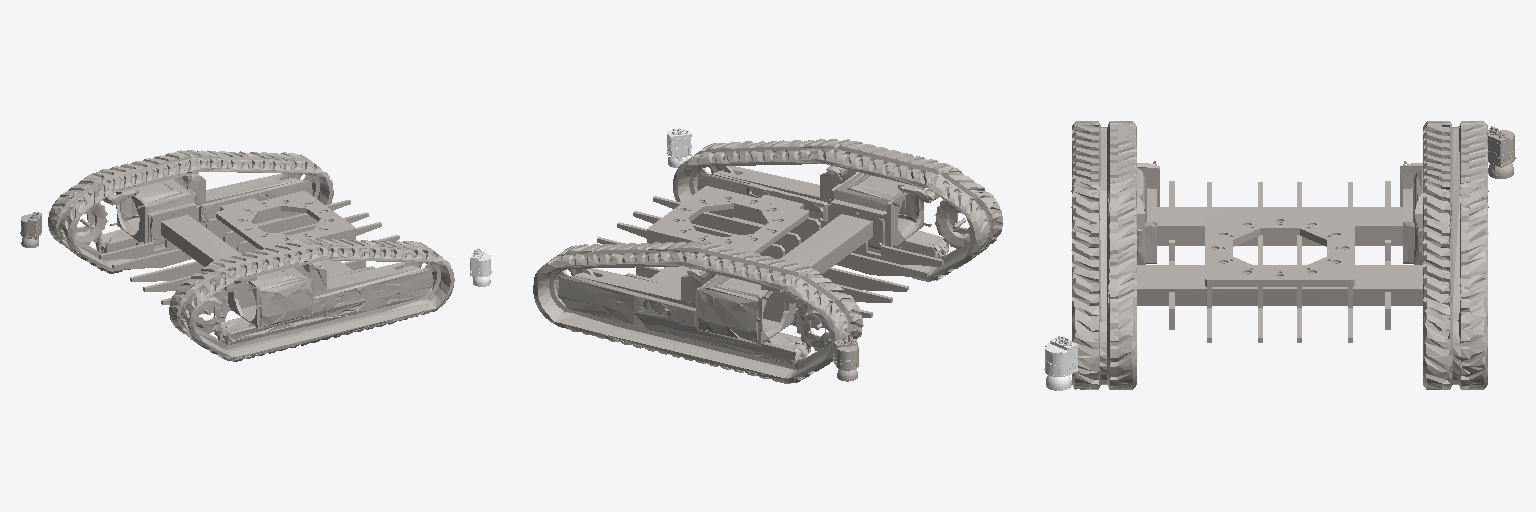
The robot description file, URDF, robot "tracked_constructa":
<?xml version="1.0" ?>
<!-- =================================================================================== -->
<!-- |    This document was autogenerated by xacro from tracked_constructa.urdf.xacro  | -->
<!-- |    EDITING THIS FILE BY HAND IS NOT RECOMMENDED                                 | -->
<!-- =================================================================================== -->
<robot name="tracked_constructa">
  <link name="tracked_constructa_base_link">
    <inertial>
      <origin rpy="0 0 0" xyz="-0.0032553 0.00058223 0.2389"/>
      <mass value="827.12"/>
      <inertia ixx="30.917" ixy="-0.023393" ixz="9.441" iyy="208.62" iyz="-0.0088913" izz="192.94"/>
    </inertial>
    <visual>
      <origin rpy="0 0 0" xyz="0 0 0"/>
      <geometry>
        <mesh filename="package://tracked_constructa/meshes/base_link.STL"/>
      </geometry>
      <material name="">
        <color rgba="0.77647 0.75686 0.73725 1"/>
      </material>
    </visual>
    <collision>
      <origin rpy="0 0 0" xyz="0 0 0"/>
      <geometry>
        <mesh filename="package://tracked_constructa/meshes/base_link.STL"/>
      </geometry>
    </collision>
  </link>
  <link name="tracked_constructa_wheel_right">
    <inertial>
      <origin rpy="0 0 0" xyz="2.4228E-05 -5.2484E-06 -0.05"/>
      <mass value="0.2419"/>
      <inertia ixx="0.00020763" ixy="3.052E-23" ixz="1.4093E-18" iyy="0.00020763" iyz="-1.2101E-18" izz="1.2095E-05"/>
    </inertial>
    <visual>
      <origin rpy="0 0 0" xyz="0 0 0"/>
      <geometry>
        <mesh filename="package://tracked_constructa/meshes/wheel_right.STL"/>
      </geometry>
      <material name="">
        <color rgba="0.77647 0.75686 0.73725 1"/>
      </material>
    </visual>
    <collision>
      <origin rpy="0 0 0" xyz="0 0 0"/>
      <geometry>
        <mesh filename="package://tracked_constructa/meshes/wheel_right.STL"/>
      </geometry>
    </collision>
  </link>
  <joint name="tracked_constructa_wheel_right" type="revolute">
    <origin rpy="1.5708 0 0" xyz="-0.68249 -0.71198 0.29748"/>
    <parent link="tracked_constructa_base_link"/>
    <child link="tracked_constructa_wheel_right"/>
    <axis xyz="0 0 1"/>
    <limit effort="0" lower="-1E-16" upper="1E+16" velocity="0"/>
  </joint>
  <link name="tracked_constructa_wheel_left">
    <inertial>
      <origin rpy="0 0 0" xyz="2.4199E-05 1.2367E-05 0.05"/>
      <mass value="0.2419"/>
      <inertia ixx="0.00020763" ixy="2.6987E-53" ixz="-5.1095E-36" iyy="0.00020763" iyz="-2.3373E-37" izz="1.2095E-05"/>
    </inertial>
    <visual>
      <origin rpy="0 0 0" xyz="0 0 0"/>
      <geometry>
        <mesh filename="package://tracked_constructa/meshes/wheel_left.STL"/>
      </geometry>
      <material name="">
        <color rgba="0.77647 0.75686 0.73725 1"/>
      </material>
    </visual>
    <collision>
      <origin rpy="0 0 0" xyz="0 0 0"/>
      <geometry>
        <mesh filename="package://tracked_constructa/meshes/wheel_left.STL"/>
      </geometry>
    </collision>
  </link>
  <joint name="tracked_constructa_wheel_left" type="revolute">
    <origin rpy="1.5708 0 0" xyz="-0.68249 0.71198 0.29746"/>
    <parent link="tracked_constructa_base_link"/>
    <child link="tracked_constructa_wheel_left"/>
    <axis xyz="0 0 -1"/>
    <limit effort="0" lower="-1E-16" upper="1E+16" velocity="0"/>
  </joint>
  <link name="tracked_constructa_robot_base_link">
    <inertial>
      <origin rpy="0 0 0" xyz="5.5511E-17 1.2072E-16 -0.01498"/>
      <mass value="50.758"/>
      <inertia ixx="1.9089" ixy="1.6591E-16" ixz="-1.2712E-19" iyy="1.9089" iyz="-6.6393E-15" izz="3.8104"/>
    </inertial>
    <visual>
      <origin rpy="0 0 0" xyz="0 0 0"/>
      <geometry>
        <mesh filename="package://tracked_constructa/meshes/robot_base_link.STL"/>
      </geometry>
      <material name="">
        <color rgba="0.77647 0.75686 0.73725 1"/>
      </material>
    </visual>
    <collision>
      <origin rpy="0 0 0" xyz="0 0 0"/>
      <geometry>
        <mesh filename="package://tracked_constructa/meshes/robot_base_link.STL"/>
      </geometry>
    </collision>
  </link>
  <joint name="tracked_constructa_robot_base_link" type="fixed">
    <origin rpy="0 0 0" xyz="0.2215 0 0.37377"/>
    <parent link="tracked_constructa_base_link"/>
    <child link="tracked_constructa_robot_base_link"/>
    <axis xyz="0 0 0"/>
  </joint>
  <link name="tracked_constructa_lidar_1">
    <inertial>
      <origin rpy="0 0 0" xyz="0.79861 2.8555E-08 -0.014039"/>
      <mass value="5816.8"/>
      <inertia ixx="28155" ixy="-9.4051E-06" ixz="254.35" iyy="14577" iyz="7.565E-06" izz="42723"/>
    </inertial>
    <visual>
      <origin rpy="0 0 0" xyz="0 0 0"/>
      <geometry>
        <mesh filename="package://tracked_constructa/meshes/lidar_1.STL"/>
      </geometry>
      <material name="">
        <color rgba="0.77647 0.75686 0.73725 1"/>
      </material>
    </visual>
    <collision>
      <origin rpy="0 0 0" xyz="0 0 0"/>
      <geometry>
        <mesh filename="package://tracked_constructa/meshes/lidar_1.STL"/>
      </geometry>
    </collision>
  </link>
  <joint name="tracked_constructa_lidar_1" type="fixed">
    <origin rpy="-3.1416 0.017453 2.3562" xyz="-0.9335 0.84997 0.19"/>
    <parent link="tracked_constructa_base_link"/>
    <child link="tracked_constructa_lidar_1"/>
    <axis xyz="0 0 0"/>
  </joint>
  <link name="tracked_constructa_lidar_2">
    <inertial>
      <origin rpy="0 0 0" xyz="0 0 0"/>
      <mass value="0"/>
      <inertia ixx="0" ixy="0" ixz="0" iyy="0" iyz="0" izz="0"/>
    </inertial>
    <visual>
      <origin rpy="0 0 0" xyz="0 0 0"/>
      <geometry>
        <mesh filename="package://tracked_constructa/meshes/lidar_2.STL"/>
      </geometry>
      <material name="">
        <color rgba="1 1 1 1"/>
      </material>
    </visual>
    <collision>
      <origin rpy="0 0 0" xyz="0 0 0"/>
      <geometry>
        <mesh filename="package://tracked_constructa/meshes/lidar_2.STL"/>
      </geometry>
    </collision>
  </link>
  <joint name="tracked_constructa_lidar_2" type="fixed">
    <origin rpy="-3.14159265349393 0.017453292492991 -0.785398163455891" xyz="0.991504423857657 -0.849972187217018 0.189999999999997"/>
    <parent link="tracked_constructa_base_link"/>
    <child link="tracked_constructa_lidar_2"/>
    <axis xyz="0 0 0"/>
  </joint>
</robot>

--- Render facts (derived) ---
3 views of the same robot in one strip: view 1: azimuth 30°, elevation 25°; view 2: azimuth 150°, elevation 25°; view 3: azimuth 270°, elevation 25° (orthographic).
Robot: tracked_constructa — 6 links, 5 joints (2 revolute, 3 fixed); root link tracked_constructa_base_link; default pose: every joint at zero.
Links seen in each view (by area): view 1: tracked_constructa_base_link, tracked_constructa_robot_base_link, tracked_constructa_lidar_2, tracked_constructa_lidar_1; view 2: tracked_constructa_base_link, tracked_constructa_robot_base_link, tracked_constructa_lidar_1, tracked_constructa_lidar_2; view 3: tracked_constructa_base_link, tracked_constructa_robot_base_link, tracked_constructa_lidar_2, tracked_constructa_lidar_1.
Boxes of the visible links, bbox=[...] form: tracked_constructa_base_link: bbox=[48, 150, 454, 361]; tracked_constructa_robot_base_link: bbox=[216, 191, 355, 249]; tracked_constructa_lidar_2: bbox=[470, 248, 491, 286]; tracked_constructa_lidar_1: bbox=[20, 212, 41, 247]; tracked_constructa_base_link: bbox=[533, 139, 1002, 383]; tracked_constructa_robot_base_link: bbox=[647, 186, 808, 253]; tracked_constructa_lidar_1: bbox=[834, 337, 858, 381]; tracked_constructa_lidar_2: bbox=[667, 128, 691, 167]; tracked_constructa_base_link: bbox=[1071, 121, 1488, 389]; tracked_constructa_robot_base_link: bbox=[1205, 216, 1354, 286]; tracked_constructa_lidar_2: bbox=[1044, 336, 1077, 390]; tracked_constructa_lidar_1: bbox=[1488, 126, 1515, 178].
Size in the robot's own frame: 2.04 by 1.81 by 0.5399 metres.
6 mesh visuals loaded from 6 distinct referenced files (6 binary STL).
